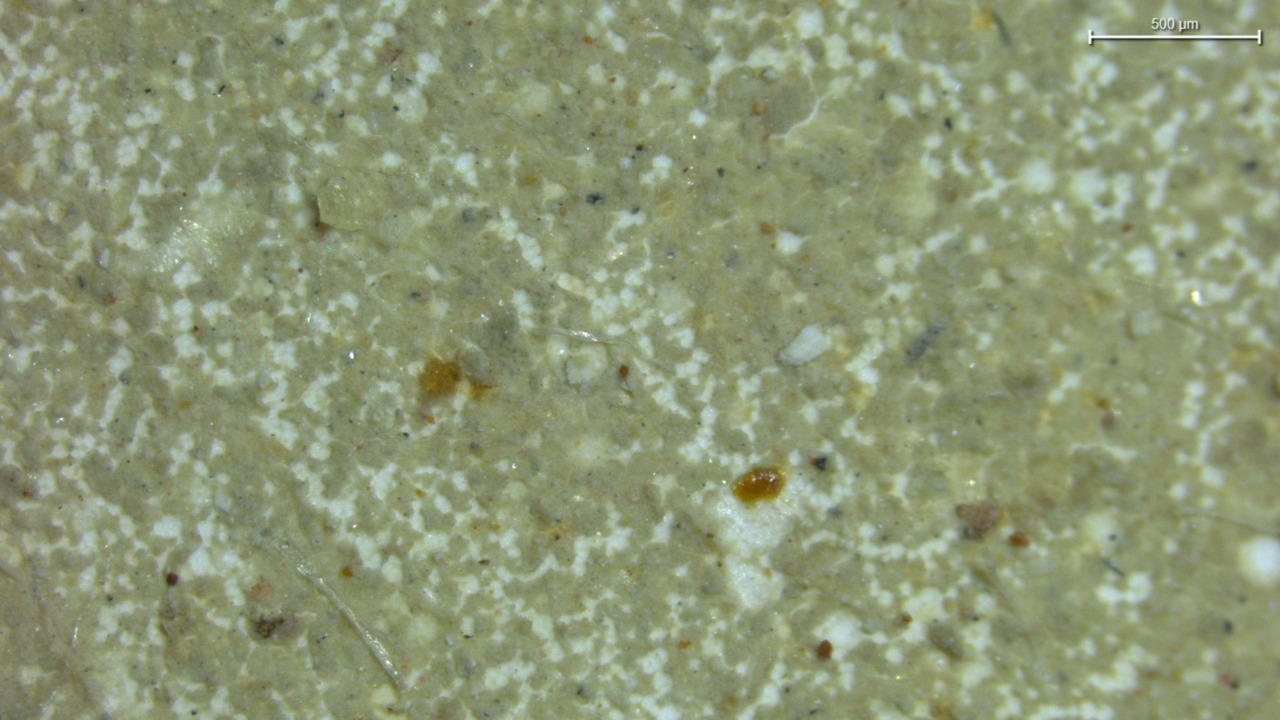microplastic_fragment: (780, 324, 830, 365)
